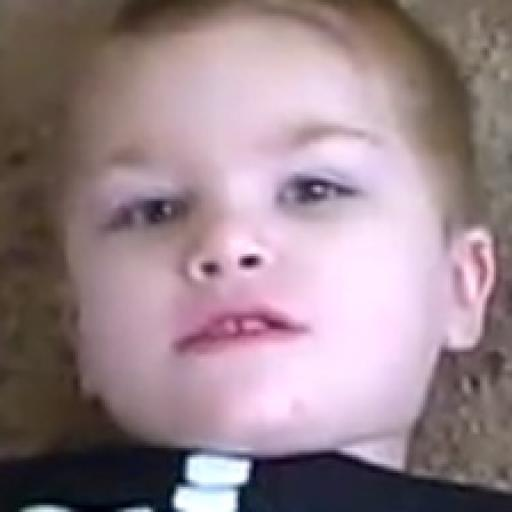Autism: (32, 43, 482, 477)
